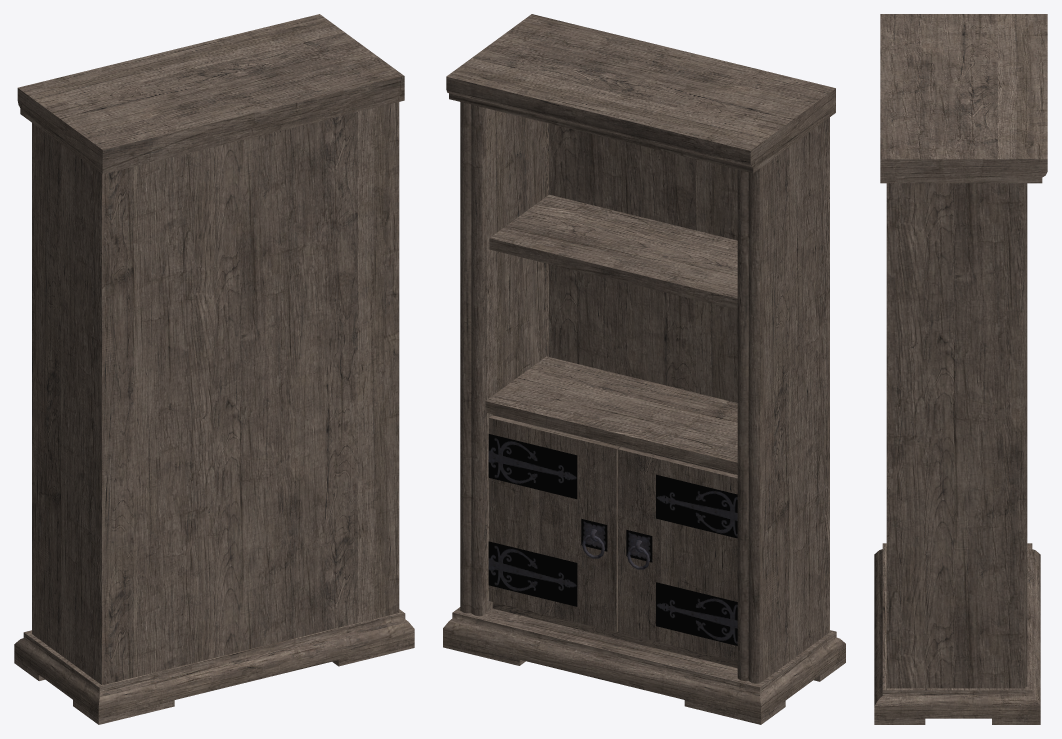
The model's file is mw_cupboard_02.FBX.
3 renders of one model, left to right at view 1: azimuth 30°, elevation 25°; view 2: azimuth 150°, elevation 25°; view 3: azimuth 270°, elevation 25°, orthographic. The views are drawn at different scales.
Parts seen in each view (by area): view 1: mw_cupboard_02; view 2: mw_cupboard_02; view 3: mw_cupboard_02.
Boxes of the visible parts, <box> form: mw_cupboard_02: <box>14,14,414,724</box>; mw_cupboard_02: <box>443,14,845,724</box>; mw_cupboard_02: <box>874,14,1047,724</box>.
Bounding box in the file's own units: 151 × 261 × 72.75.
